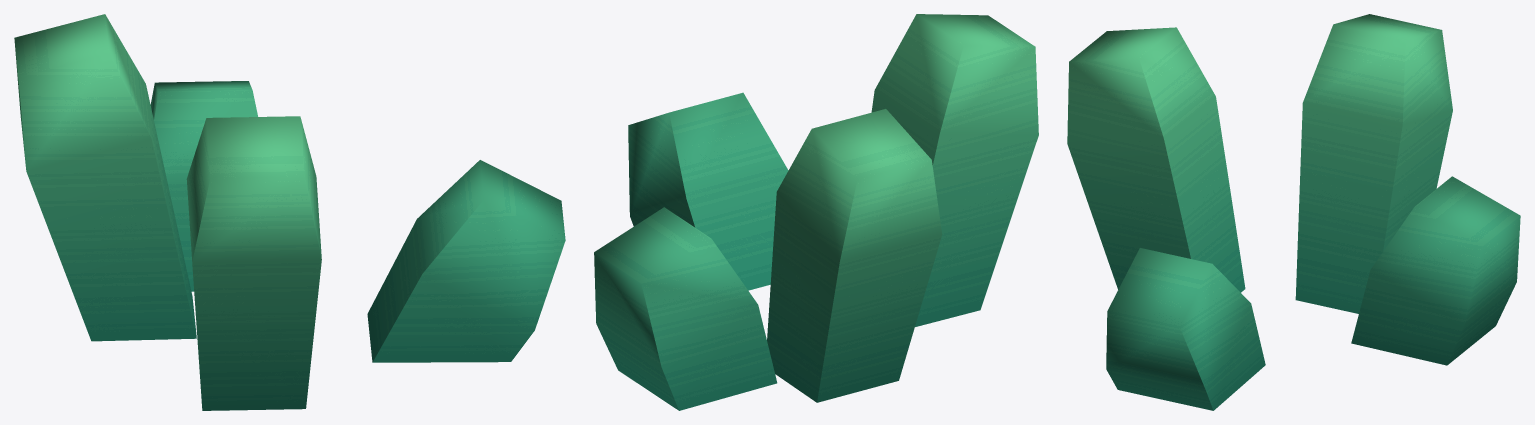
File: grass.003_lev2.glb
3 renders of one model, left to right at view 1: azimuth 30°, elevation 25°; view 2: azimuth 150°, elevation 25°; view 3: azimuth 270°, elevation 25°, orthographic. The views are drawn at different scales.
Parts seen in each view (by area): view 1: grass.003_lev2; view 2: grass.003_lev2; view 3: grass.003_lev2.
Part boxes in pixels (box(x1,y1,x2,y2)): grass.003_lev2: box(14, 14, 565, 410); grass.003_lev2: box(594, 14, 1038, 410); grass.003_lev2: box(1067, 14, 1520, 410).
Bounding box in the file's own units: 0.5013 × 0.3139 × 0.5206.
1 material, 1 textured.
